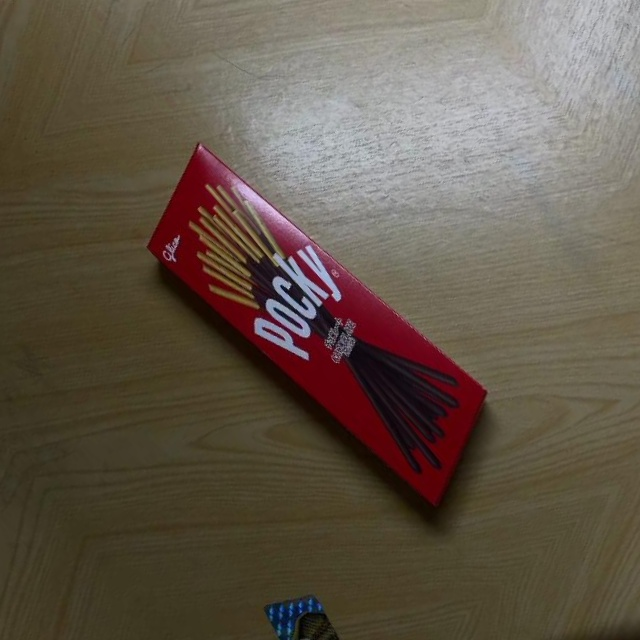Pocky: (114, 101, 528, 546)
